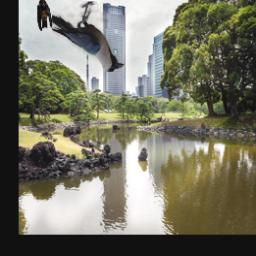Crow: (52, 2, 125, 73)
Swallow: (37, 0, 53, 31)
